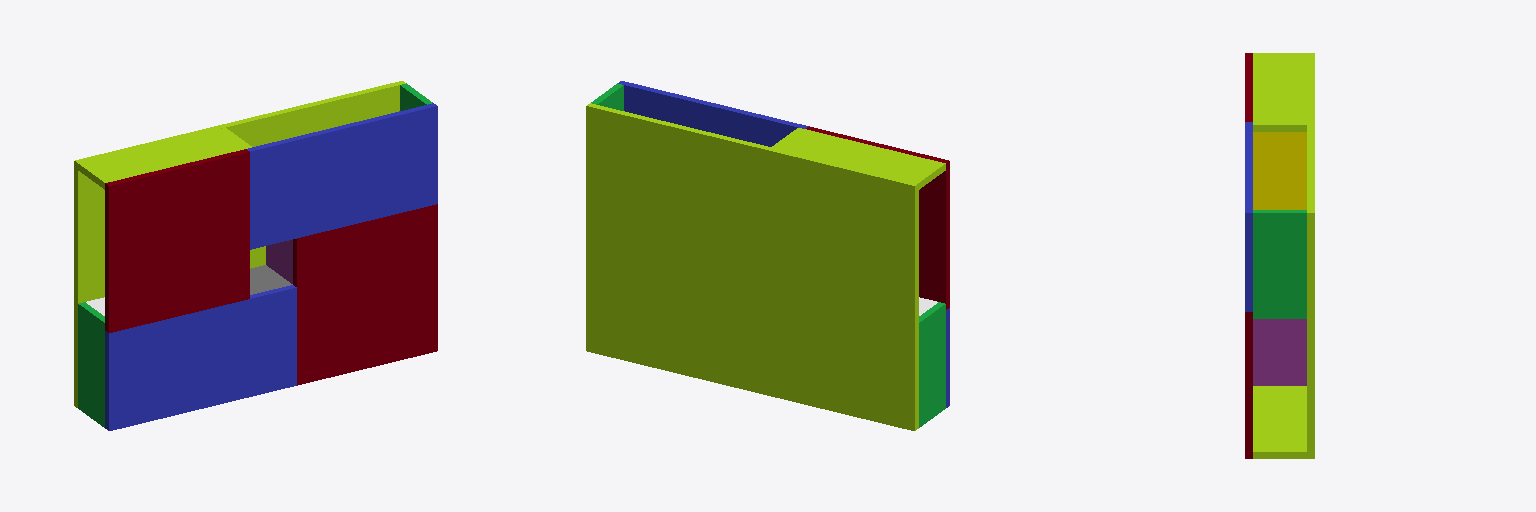
File: table_assembled.obj
3 views of the same model, side by side, from view 1: azimuth 30°, elevation 25°; view 2: azimuth 150°, elevation 25°; view 3: azimuth 270°, elevation 25° (orthographic).
Parts seen in each view (by area): view 1: Object.22, Object.20, Object.21, Object.23, Object.24, Object.27, Object.26, Object.25, Object.29, Object.28, Object.13, Object.4 (+7 smaller); view 2: Object.13, Object.15, Object.19, Object.14, Object.16, Object.17, Object.18, Object.22, Object.4, Object.24, Object.1, Object.2; view 3: Object.2, Object.4, Object.9, Object.3, Object.7, Object.13, Object.29, Object.22.
Part boxes in pixels (left/top/right/bottom): Object.22: left=247, top=103, right=437, bottom=200; Object.20: left=105, top=285, right=296, bottom=381; Object.21: left=105, top=337, right=296, bottom=430; Object.23: left=250, top=155, right=437, bottom=249; Object.24: left=105, top=172, right=155, bottom=332; Object.27: left=293, top=227, right=343, bottom=385; Object.26: left=199, top=149, right=249, bottom=309; Object.25: left=153, top=161, right=202, bottom=321; Object.29: left=391, top=204, right=437, bottom=362; Object.28: left=344, top=216, right=390, bottom=373; Object.13: left=74, top=81, right=405, bottom=197; Object.4: left=78, top=128, right=251, bottom=189; Object.13: left=586, top=103, right=918, bottom=220; Object.15: left=586, top=176, right=918, bottom=290; Object.19: left=586, top=316, right=918, bottom=430; Object.14: left=586, top=141, right=918, bottom=255; Object.16: left=586, top=211, right=918, bottom=325; Object.17: left=586, top=246, right=918, bottom=360; Object.18: left=586, top=281, right=918, bottom=395; Object.22: left=618, top=81, right=808, bottom=146; Object.4: left=772, top=128, right=945, bottom=189; Object.24: left=899, top=149, right=949, bottom=309; Object.1: left=919, top=302, right=945, bottom=427; Object.2: left=591, top=83, right=623, bottom=110; Object.2: left=1253, top=210, right=1306, bottom=318; Object.4: left=1253, top=53, right=1306, bottom=131; Object.9: left=1253, top=132, right=1306, bottom=209; Object.3: left=1253, top=386, right=1306, bottom=458; Object.7: left=1253, top=319, right=1306, bottom=385; Object.13: left=1307, top=53, right=1314, bottom=247; Object.29: left=1245, top=312, right=1252, bottom=458; Object.22: left=1245, top=122, right=1252, bottom=261.
Bounding box in the file's own units: 98 × 70 × 18.